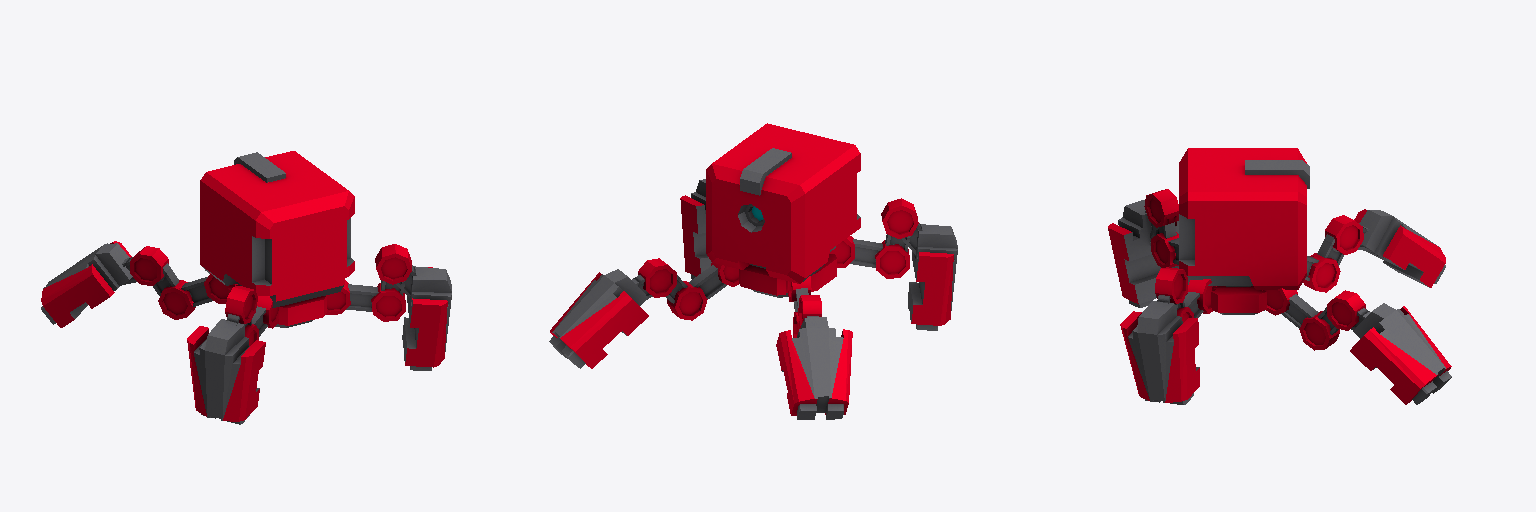
3 views of the same model, side by side, from view 1: azimuth 30°, elevation 25°; view 2: azimuth 150°, elevation 25°; view 3: azimuth 270°, elevation 25° (orthographic).
Visible parts, largest first — view 1: Box006, Object021, Object025, Object017, Object020, Object027, Object028, Object018, Object019, Object024, Object026, Object022; view 2: Box006, Object025, Object013, Object021, Object017, Object024, Object016, Object023, Object015, Object022, Object014, Object028; view 3: Box006, Object017, Object013, Object025, Object021, Object027, Object016, Object014, Object028, Object024, Object015, Object020 (+2 smaller).
Boxes of the visible parts, box(x1,y1,x2,y2) form: Box006: box(200, 151, 354, 327); Object021: box(187, 319, 265, 424); Object025: box(41, 241, 132, 327); Object017: box(402, 266, 451, 370); Object020: box(375, 244, 416, 297); Object027: box(153, 263, 195, 319); Object028: box(122, 246, 168, 285); Object018: box(326, 280, 378, 314); Object019: box(371, 280, 405, 321); Object024: box(225, 286, 257, 325); Object026: box(181, 273, 237, 306); Object022: box(252, 296, 278, 336); Box006: box(706, 123, 860, 297); Object025: box(776, 317, 852, 419); Object013: box(549, 269, 648, 368); Object021: box(908, 224, 957, 330); Object017: box(680, 179, 711, 279); Object024: box(881, 198, 923, 254); Object016: box(632, 258, 676, 299); Object023: box(875, 234, 910, 278); Object015: box(666, 275, 707, 320); Object022: box(829, 236, 882, 267); Object014: box(689, 263, 738, 298); Object028: box(798, 295, 821, 327); Box006: box(1179, 148, 1309, 314); Object017: box(1120, 301, 1199, 404); Object013: box(1350, 303, 1451, 404); Object025: box(1354, 209, 1445, 287); Object021: box(1108, 200, 1178, 307); Object027: box(1303, 234, 1343, 292); Object016: box(1327, 290, 1370, 330); Object014: box(1262, 288, 1318, 328); Object028: box(1325, 215, 1371, 254); Object024: box(1144, 189, 1178, 237); Object015: box(1299, 307, 1339, 350); Object020: box(1155, 267, 1187, 310).
Bounding box in the file's own units: 157 × 94.12 × 159.
1 materials, 1 textured.